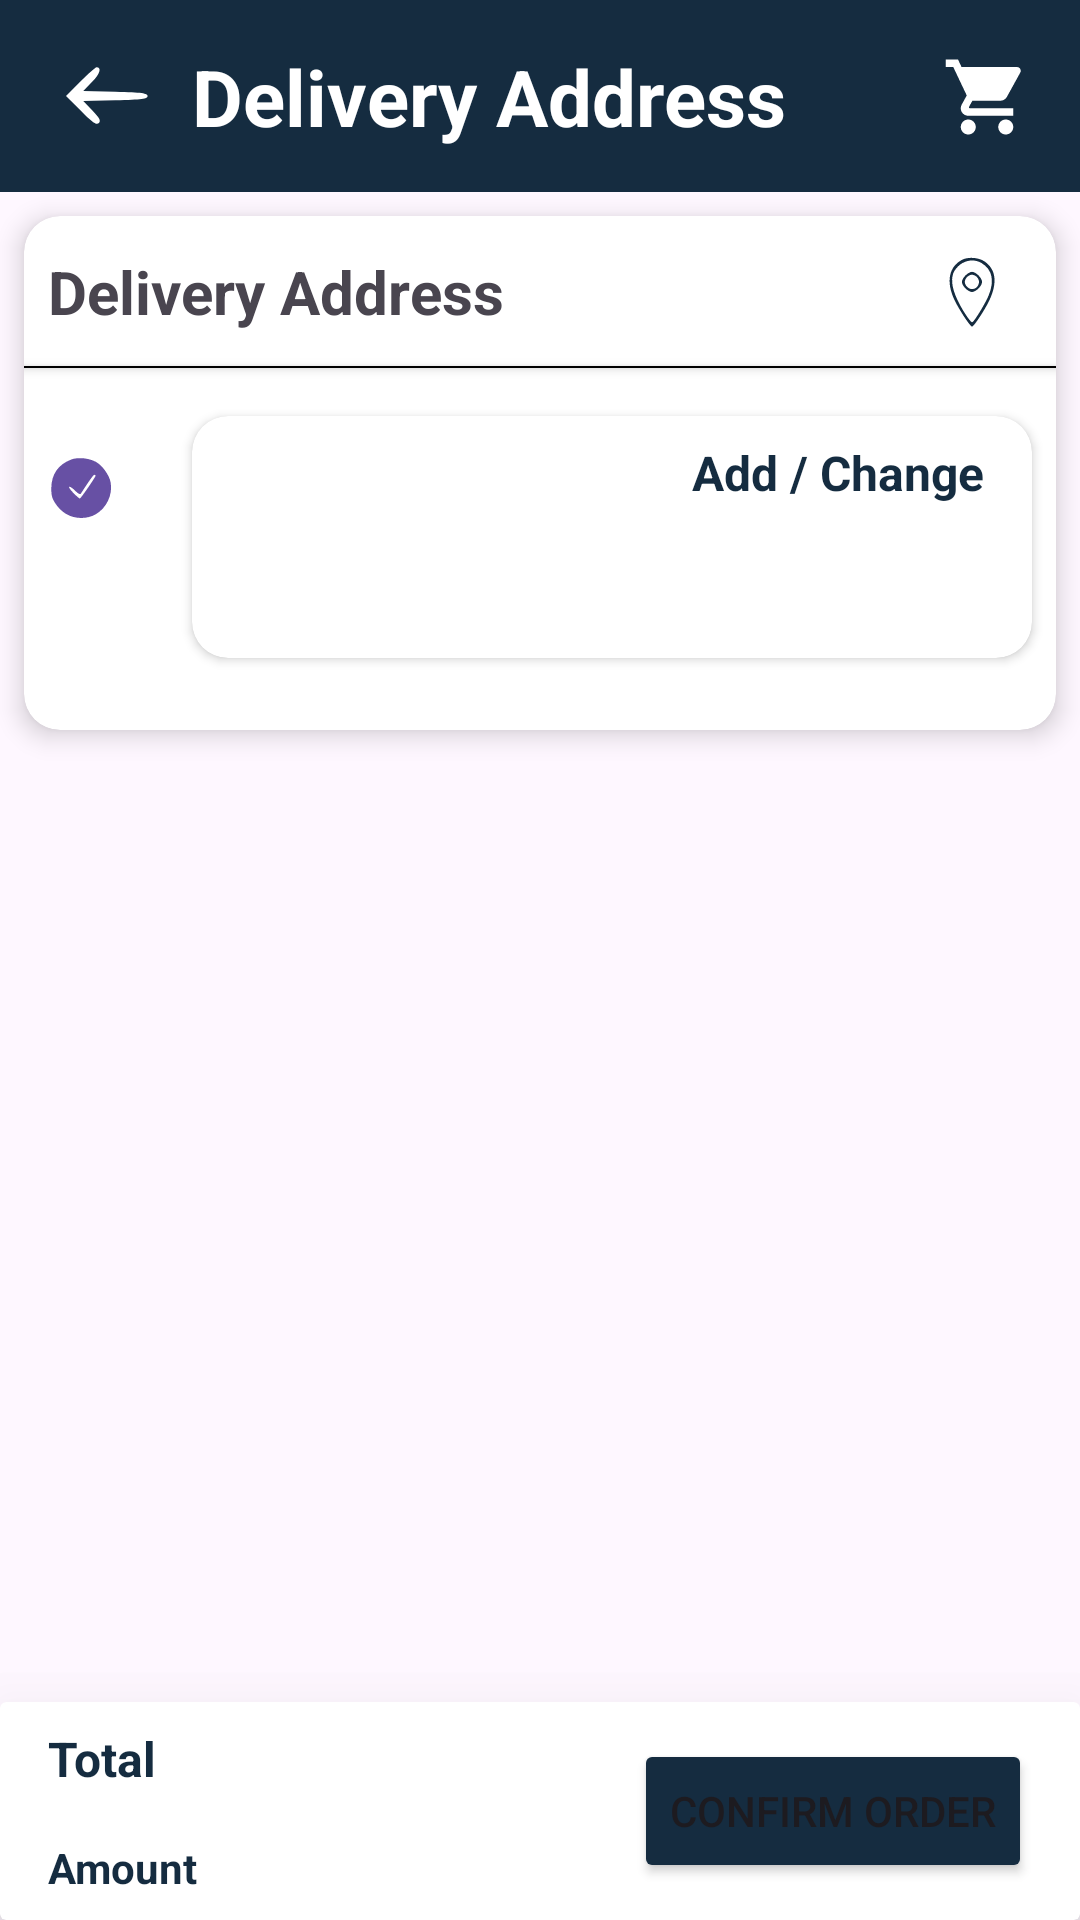

Icons on this 1080px×1920px Android screen, each with its box as BBox(x1, y1, x2, y2):
check: BBox(51, 458, 111, 518)
left arrow: BBox(66, 67, 148, 124)
location: BBox(949, 257, 995, 327)
